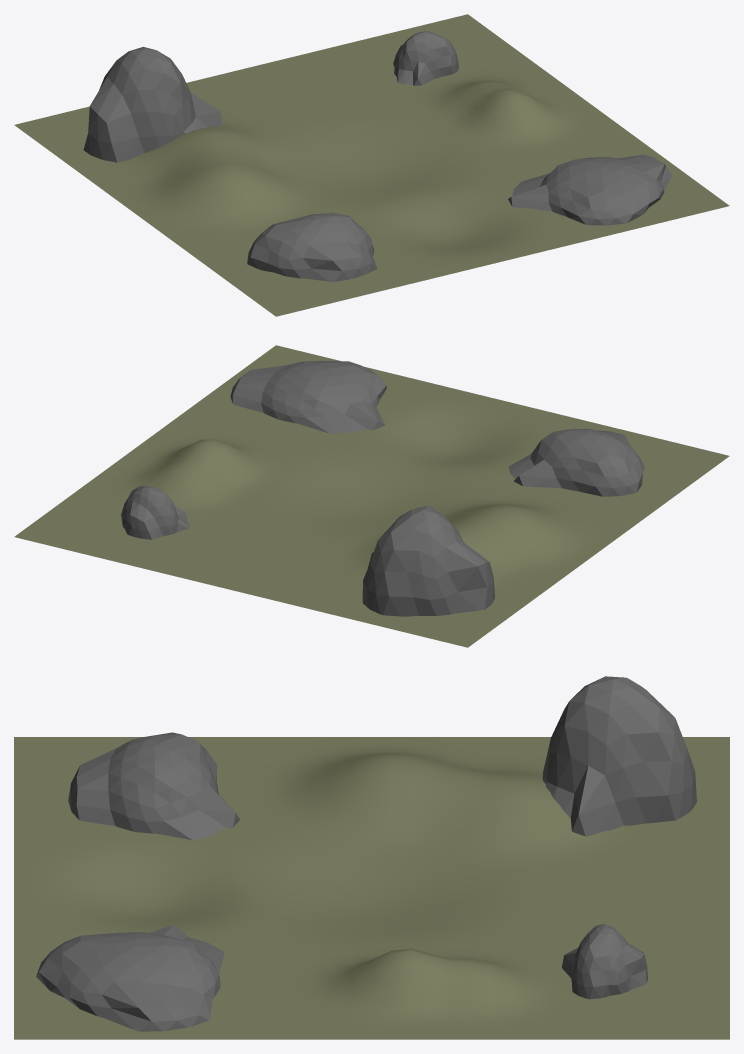
Rendered from TerrainSquare4.gltf.
The picture shows the model from 3 angles, top to bottom: view 1: azimuth 30°, elevation 25°; view 2: azimuth 150°, elevation 25°; view 3: azimuth 270°, elevation 25°; orthographic projection. The views are drawn at different scales.
Parts seen in each view (by area): view 1: Grid, RockInstance.002, RockInstance.003, RockInstance, RockInstance.001; view 2: Grid, RockInstance.002, RockInstance.003, RockInstance, RockInstance.001; view 3: Grid, RockInstance.002, RockInstance.003, RockInstance, RockInstance.001.
Boxes of the visible parts, x1,y1,x2,y2 form: Grid: (14, 14, 729, 316); RockInstance.002: (83, 46, 222, 162); RockInstance.003: (508, 154, 671, 225); RockInstance: (247, 213, 377, 281); RockInstance.001: (393, 31, 458, 85); Grid: (14, 345, 729, 647); RockInstance.002: (362, 506, 494, 616); RockInstance.003: (230, 360, 386, 433); RockInstance: (509, 428, 644, 496); RockInstance.001: (121, 486, 189, 539); Grid: (14, 737, 729, 1039); RockInstance.002: (542, 676, 696, 836); RockInstance.003: (36, 925, 224, 1031); RockInstance: (68, 732, 239, 840); RockInstance.001: (561, 924, 647, 999).
Size of the model in its own units: 25 by 5.15 by 25.
